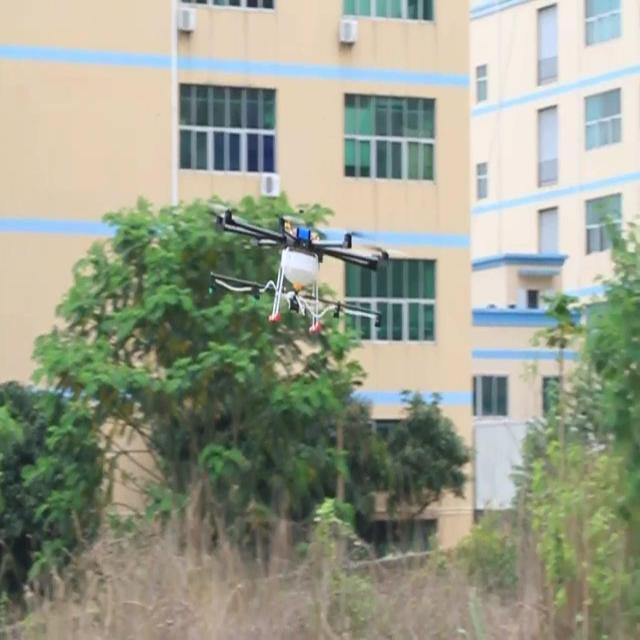drone: (207, 201, 390, 341)
